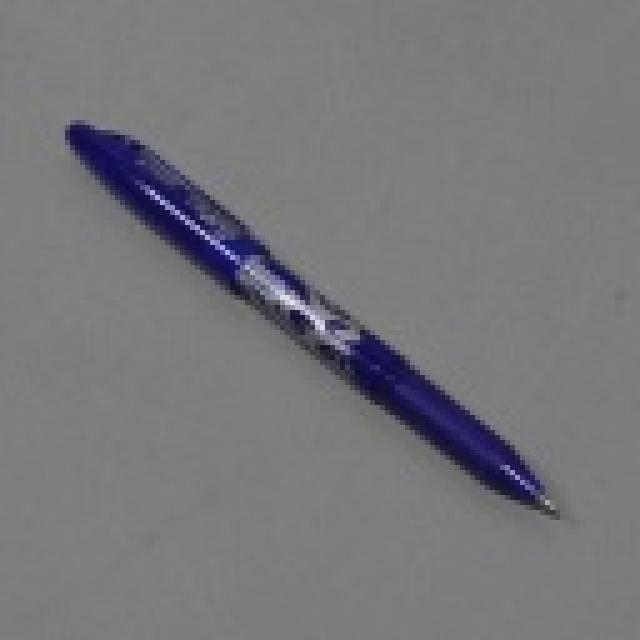pen: (58, 120, 568, 532)
